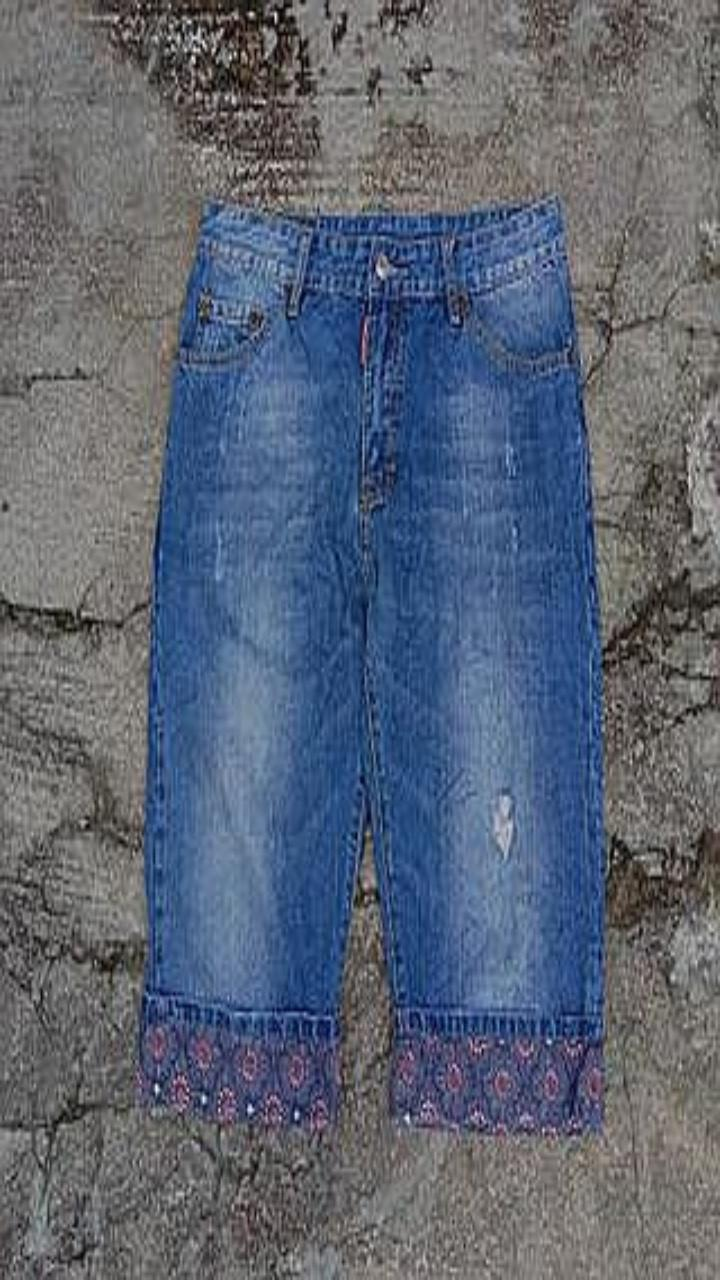Shorts: (137, 194, 603, 1132)
